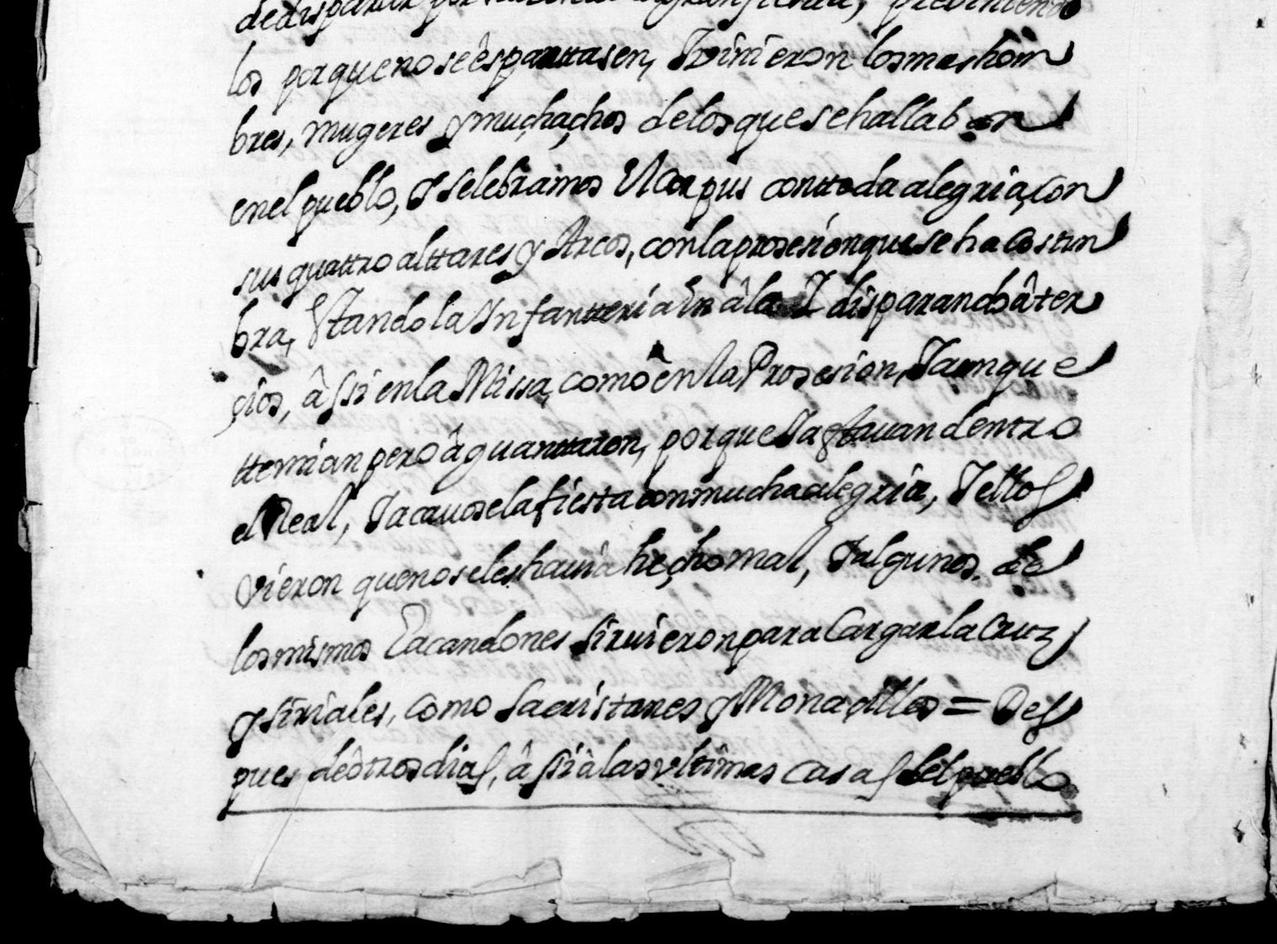lacandon: (383, 603, 572, 659)
